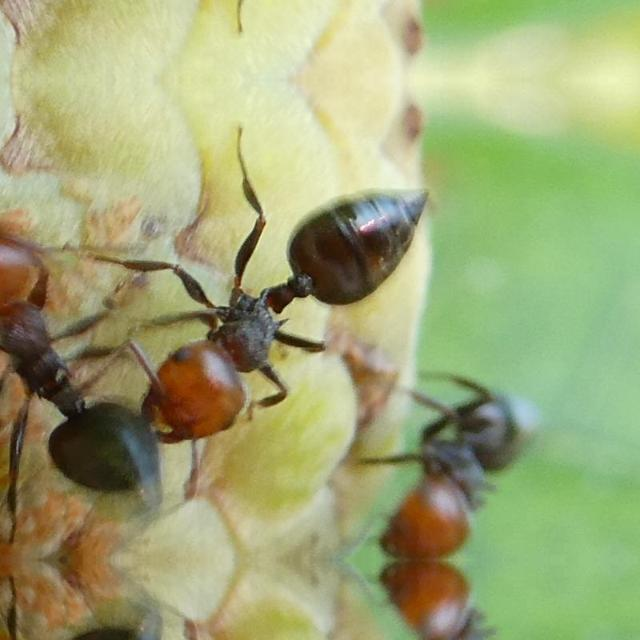Crematogaster: (156, 191, 448, 459), (0, 96, 158, 508), (370, 390, 532, 560), (370, 560, 531, 640)
